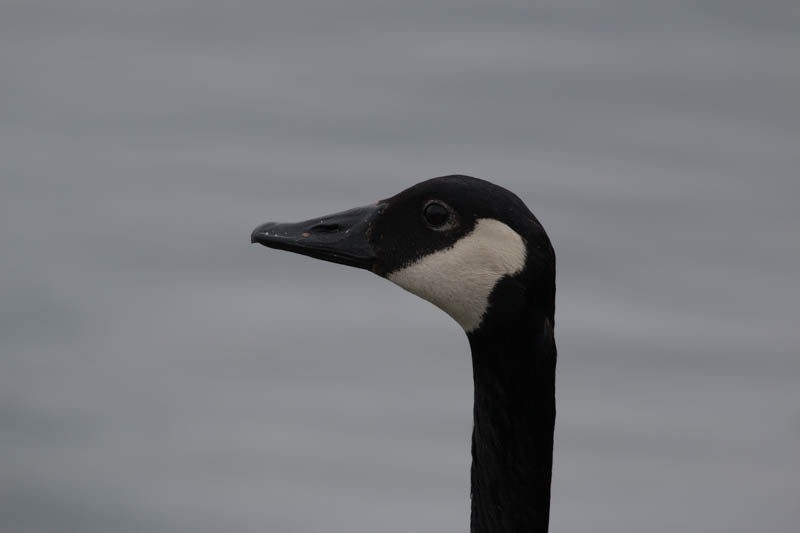goose-head: (250, 176, 556, 334)
